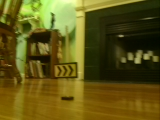right: (53, 64, 78, 78)
